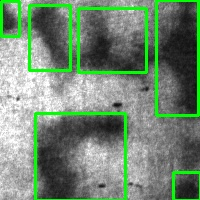patches: (35, 113, 125, 200), (156, 1, 198, 115), (78, 8, 146, 72), (29, 5, 70, 70), (173, 172, 200, 200), (1, 1, 19, 36)
